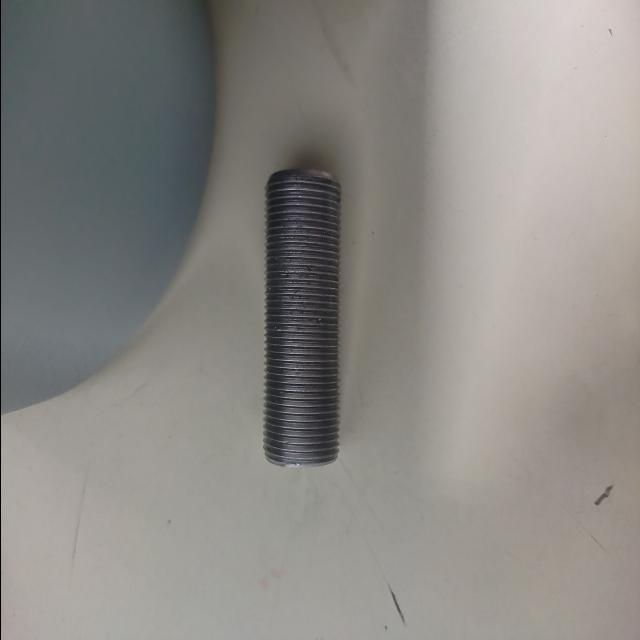Normal: (260, 168, 342, 466)
